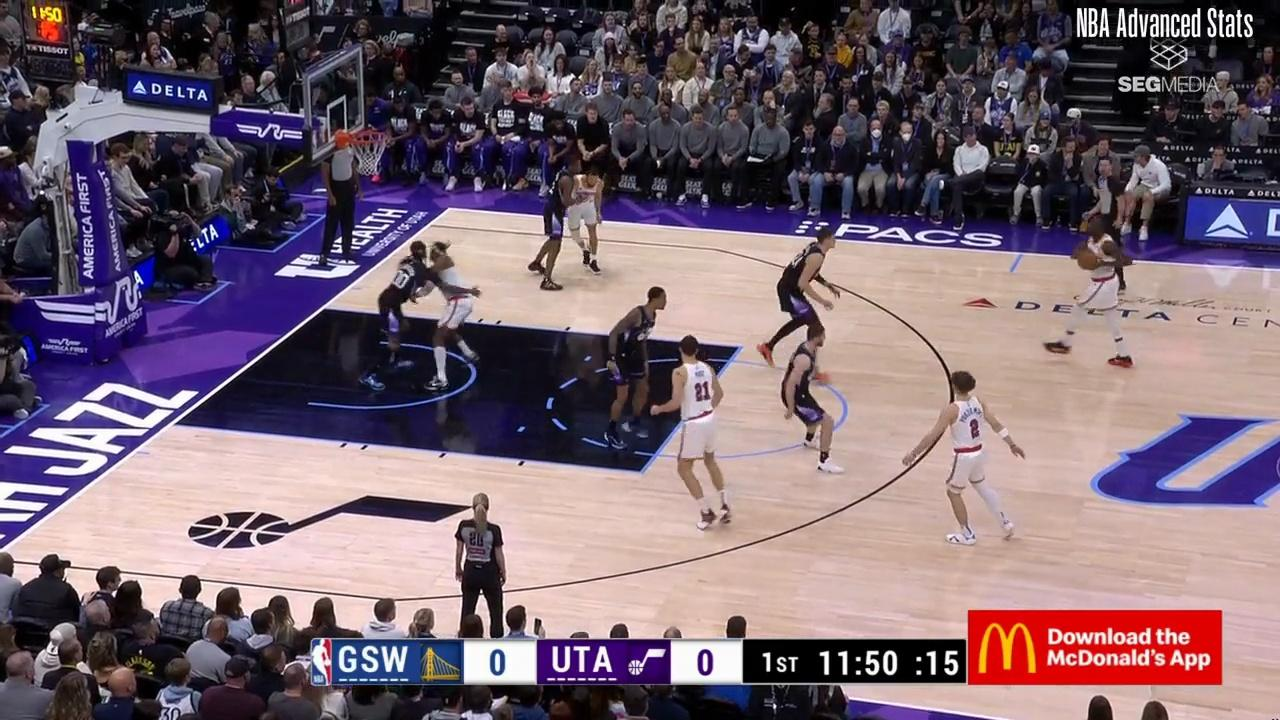basketball: (1080, 250, 1097, 271)
